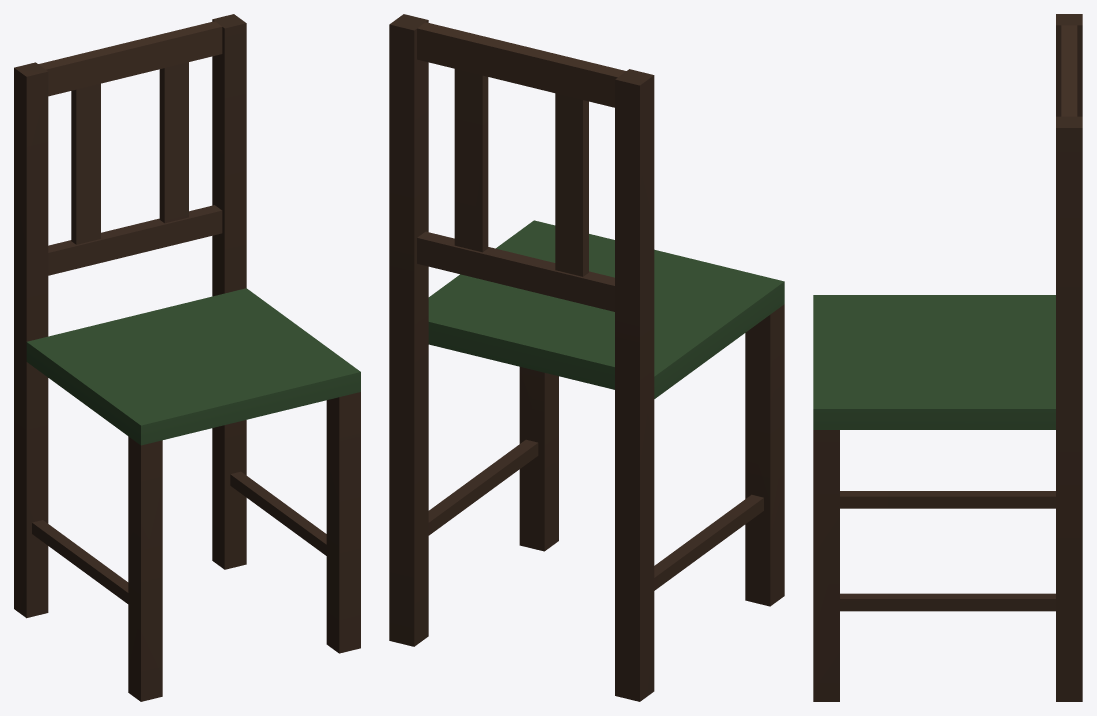
File: seat.chair.dark.glb
3 views of the same model, side by side, from view 1: azimuth 30°, elevation 25°; view 2: azimuth 150°, elevation 25°; view 3: azimuth 270°, elevation 25° (orthographic). The views are drawn at different scales.
Visible parts, largest first — view 1: seat_chair_dark; view 2: seat_chair_dark; view 3: seat_chair_dark.
Part boxes in pixels (x1,y1,x2,y2): seat_chair_dark: (14, 14, 360, 701); seat_chair_dark: (389, 14, 784, 701); seat_chair_dark: (813, 14, 1082, 701).
Size of what is drawn, in the model's own units: 0.404 by 0.95 by 0.404.
